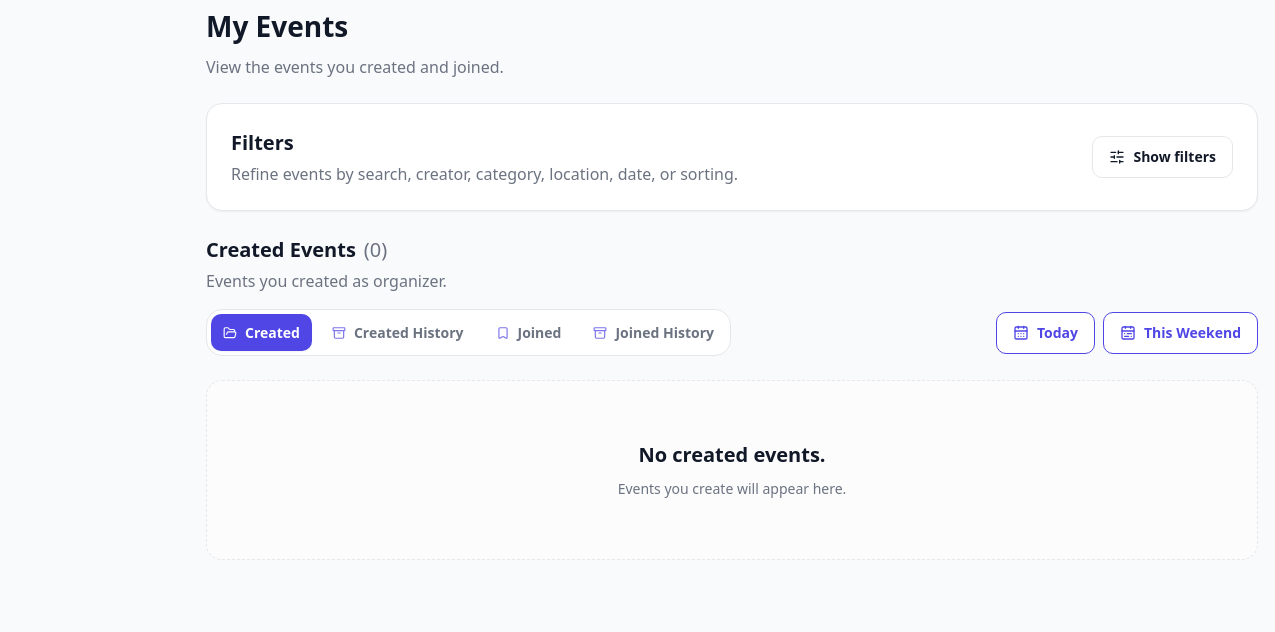
Test: MyEventsPage › updates URL when switching view
Expected: the heading "No created events." is shown, [638,440,826,470]
Step 1. Click the tab "Joined" → (528, 332), box [484,314,573,351]
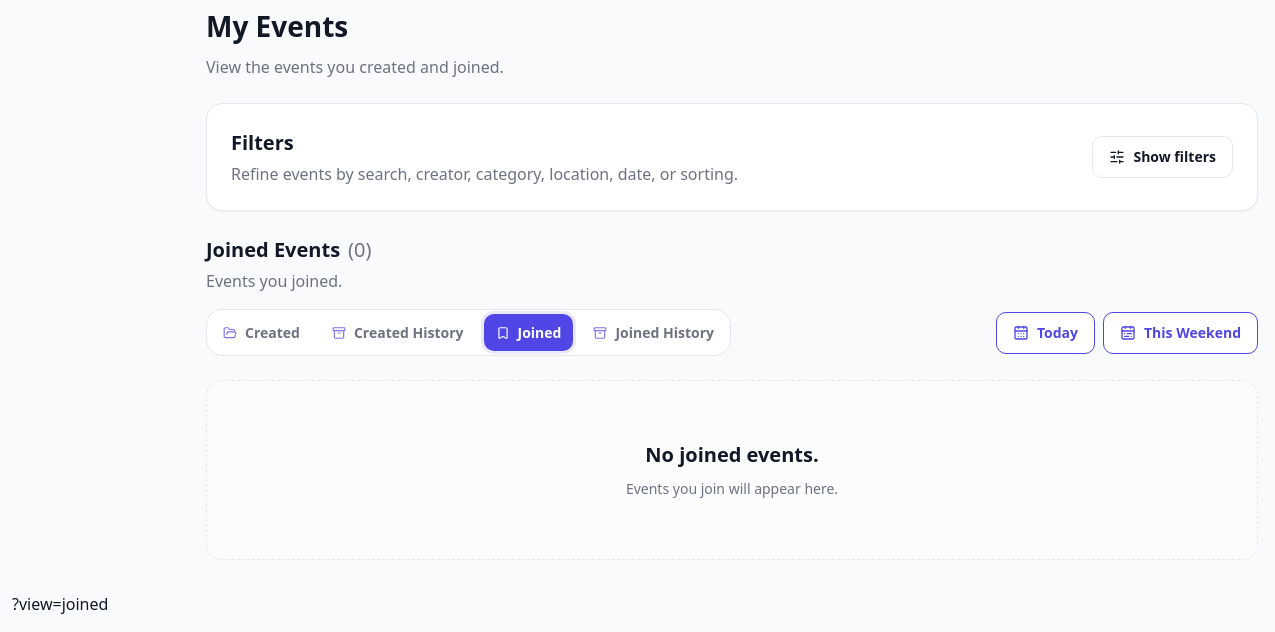
Now the text with test id "location-search" shows "view=joined", box [12,593,108,615]
